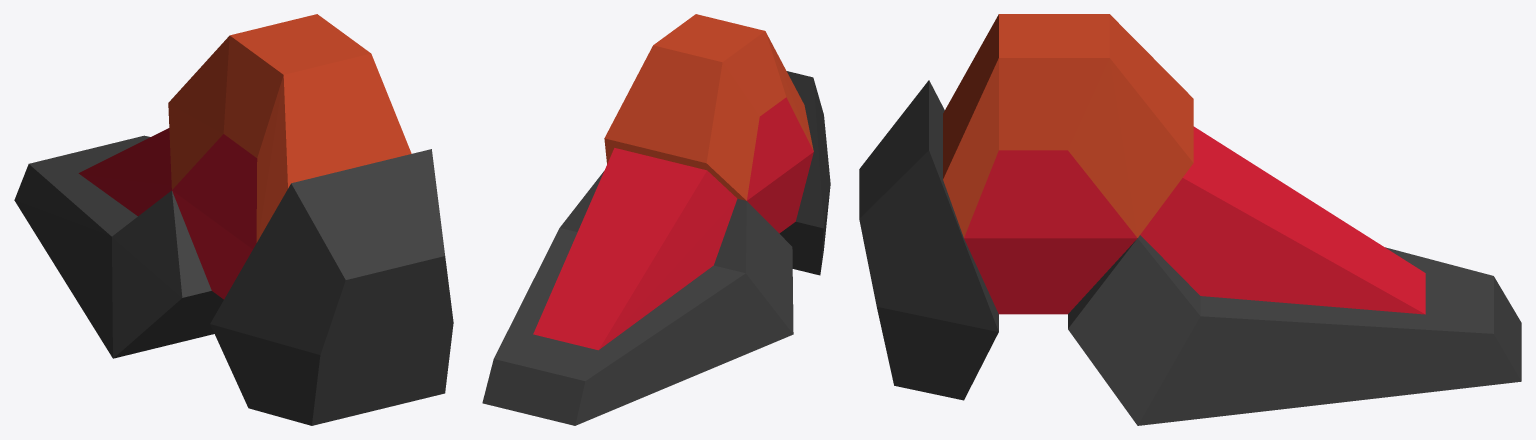
File: foot.FBX
3 views of the same model, side by side, from view 1: azimuth 30°, elevation 25°; view 2: azimuth 150°, elevation 25°; view 3: azimuth 270°, elevation 25° (orthographic). The views are drawn at different scales.
Visible parts, largest first — view 1: VIFS001, VIFS003, VIFS002; view 2: VIFS001, VIFS002, VIFS003; view 3: VIFS001, VIFS002, VIFS003.
Part boxes in pixels (<box>): VIFS001: <box>14,135,453,425</box>; VIFS003: <box>168,14,411,242</box>; VIFS002: <box>78,128,257,299</box>; VIFS001: <box>482,71,830,425</box>; VIFS002: <box>533,97,813,350</box>; VIFS003: <box>604,14,813,200</box>; VIFS001: <box>859,80,1521,425</box>; VIFS002: <box>964,126,1425,314</box>; VIFS003: <box>943,14,1193,237</box>.
Size of the model in its own units: 0.399 by 0.4 by 0.759.
